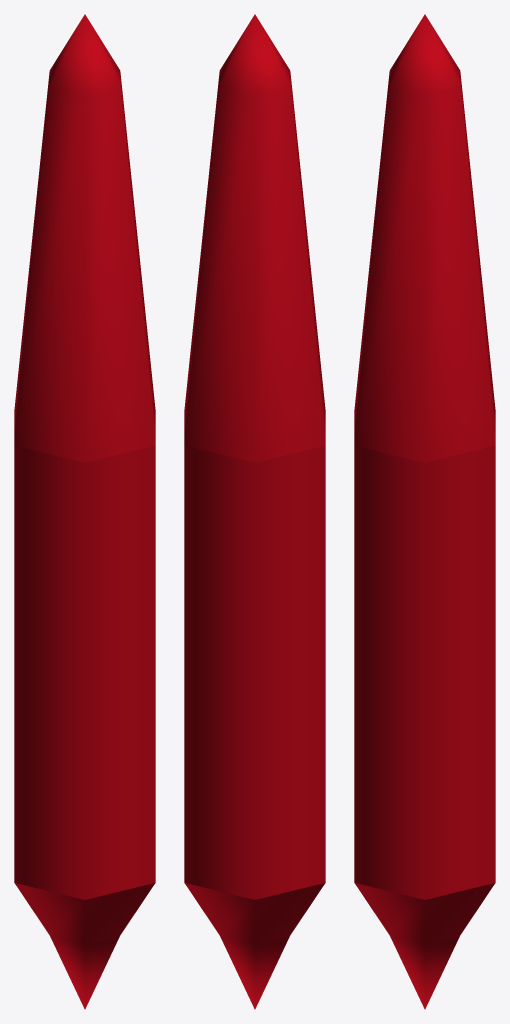
Rendered from Crystal_01.FBX.
3 renders of one model, left to right at view 1: azimuth 90°, elevation 25°; view 2: azimuth 150°, elevation 25°; view 3: azimuth 270°, elevation 25°, orthographic.
Parts seen in each view (by area): view 1: Cone005; view 2: Cone005; view 3: Cone005.
Part boxes in pixels (left/top/right/bottom): Cone005: left=14, top=14, right=155, bottom=1009; Cone005: left=184, top=14, right=325, bottom=1009; Cone005: left=354, top=14, right=495, bottom=1009.
Bounding box in the file's own units: 11.68 × 10.11 × 78.65.
